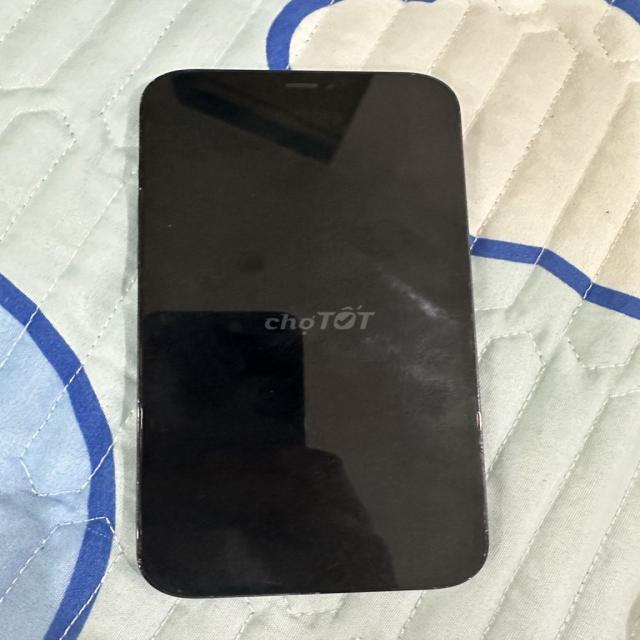gen_12_13: (127, 63, 500, 605)
